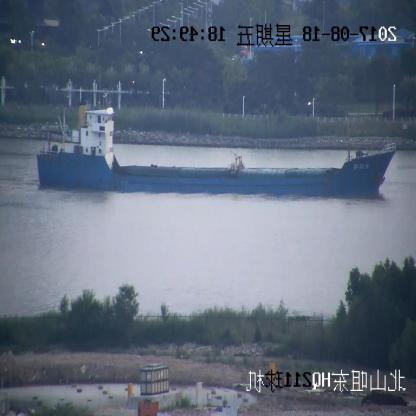Bulk Carrier: (37, 105, 396, 195)
